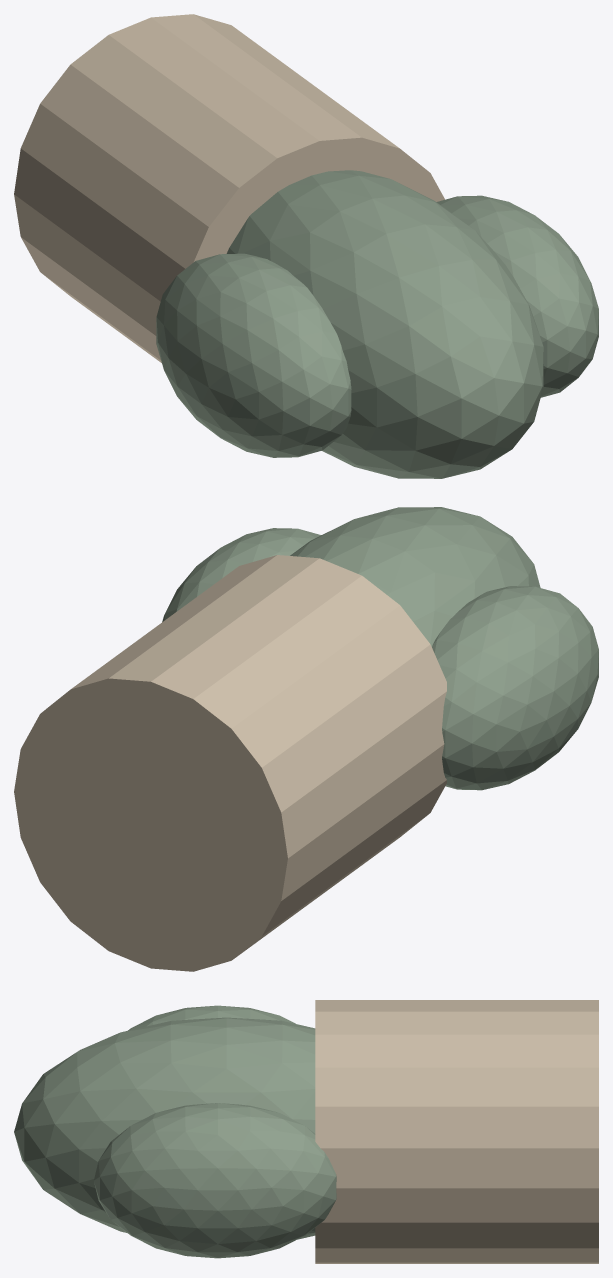
File: cactus.glb
The picture shows the model from 3 angles, top to bottom: view 1: azimuth 30°, elevation 25°; view 2: azimuth 150°, elevation 25°; view 3: azimuth 270°, elevation 25°; orthographic projection. The views are drawn at different scales.
Visible parts, largest first — view 1: pot, cactus_main, branch_0, branch_1; view 2: pot, branch_0, cactus_main, branch_1; view 3: pot, cactus_main, branch_1, branch_0.
Part boxes in pixels (x1,y1,x2,y2): pot: (14,14,444,362); cactus_main: (226,170,543,478); branch_0: (156,253,351,457); branch_1: (436,195,598,397); pot: (14,555,446,971); branch_0: (432,586,598,790); cactus_main: (290,507,540,646); branch_1: (162,528,321,621); pot: (315,1000,598,1263); cactus_main: (14,1017,315,1239); branch_1: (93,1103,336,1258); branch_0: (128,1005,295,1030).
Size of the model in its own units: 0.42 by 0.3 by 0.66.
